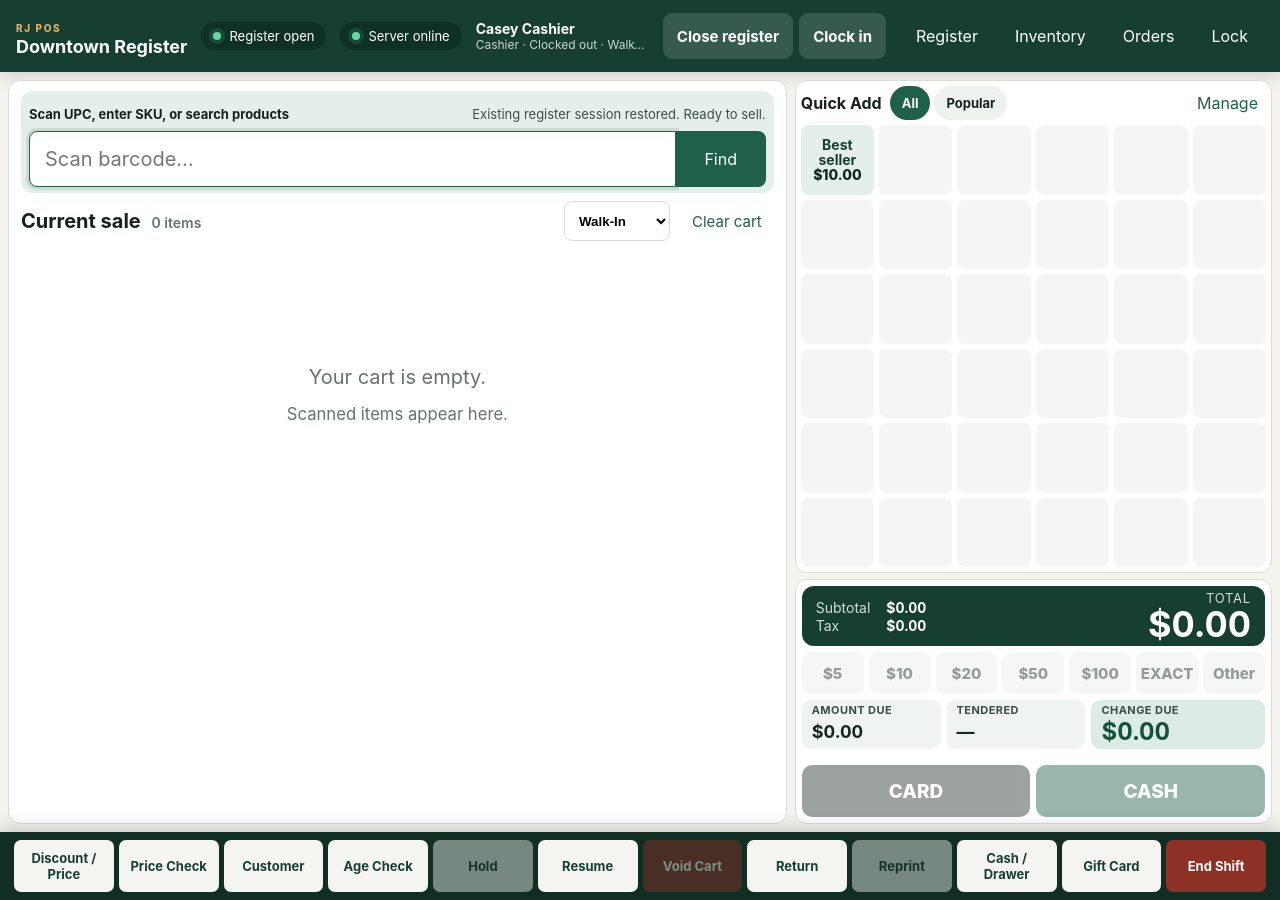
Scenario: Phase 7 touch register and HID scanning › lists held sales with age, register, note, and age state, and cancels one
Expected: the button "Best seller $10.00" is shown, [801,125,874,194]
Click the button "Resume" at (588, 866), box [538,840,638,892]
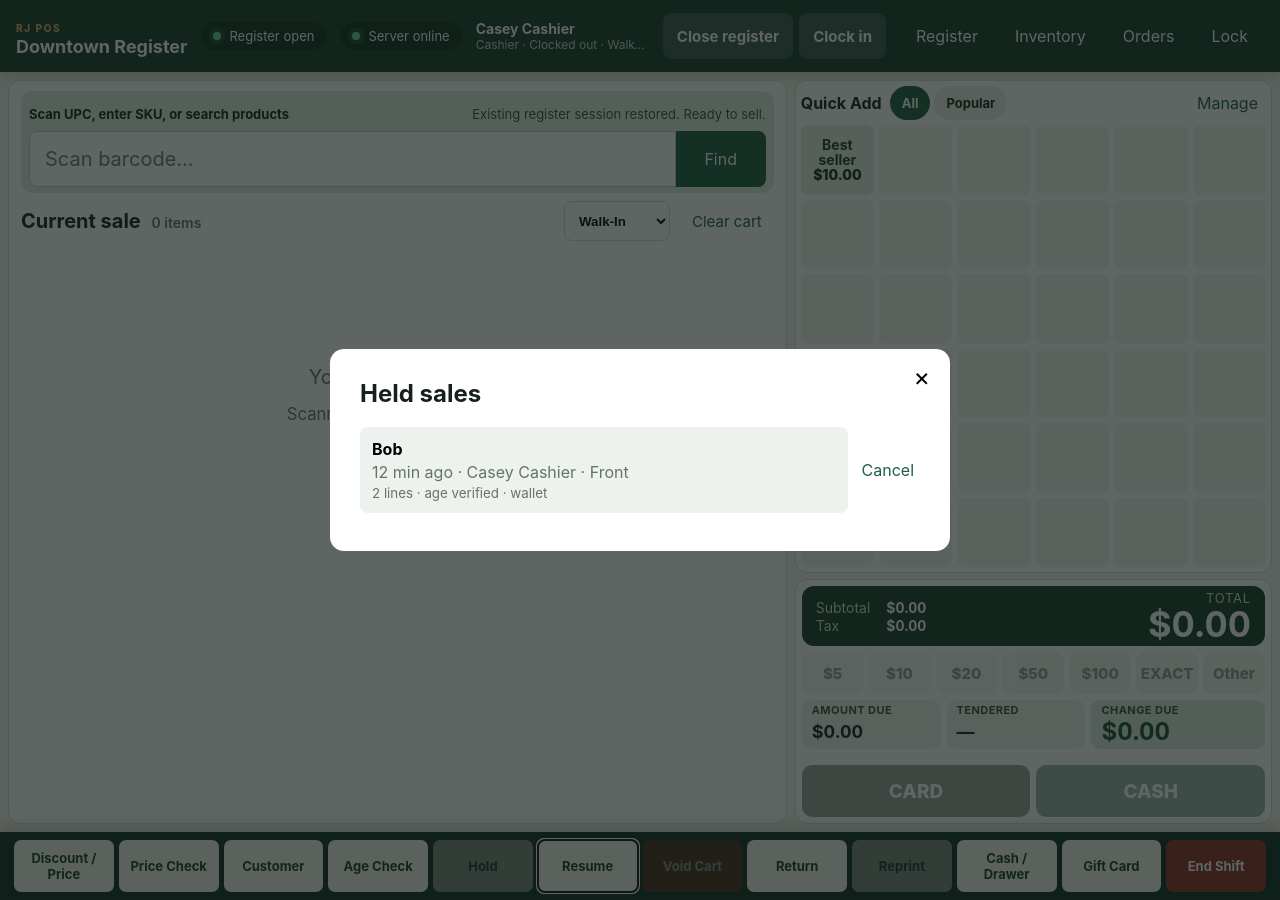
Expected: the text "12 min ago · Casey Cashier · Front" is shown, [372,462,629,482]
Expected: the text "2 lines · age verified · wallet" is shown, [372,486,547,502]
Click the button with aria-label "Cancel held sale Bob" at (888, 470), box [856,460,920,482]
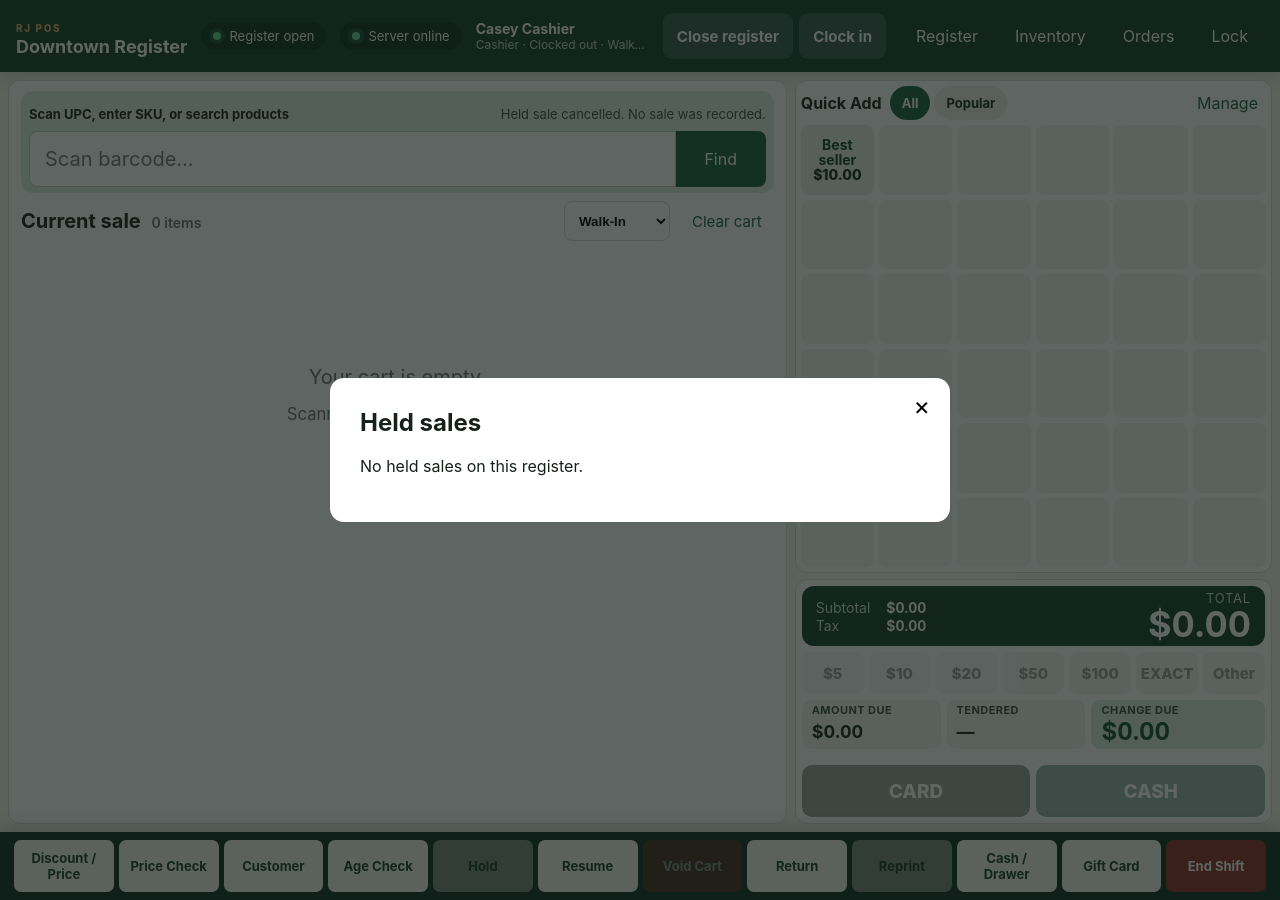
Expected: the text "Held sale cancelled. No sale was recorded." is shown, [501,106,766,122]
Expected: the button "12 min ago" is gone
